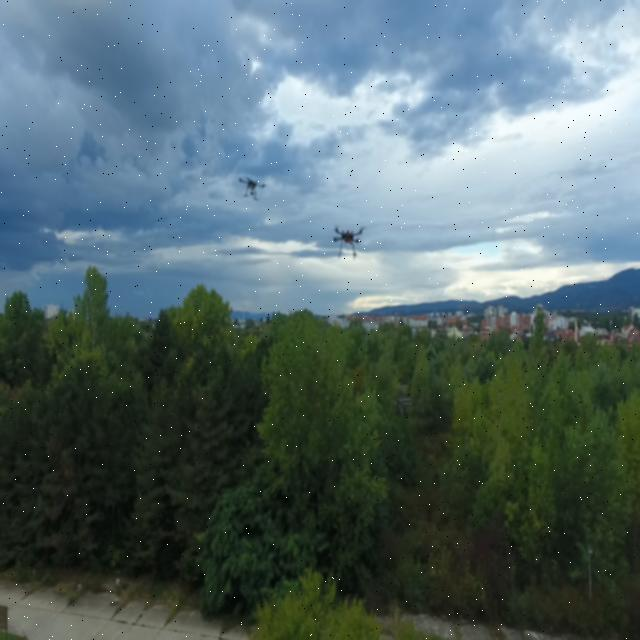UAV: (325, 220, 370, 262), (232, 172, 270, 206)
